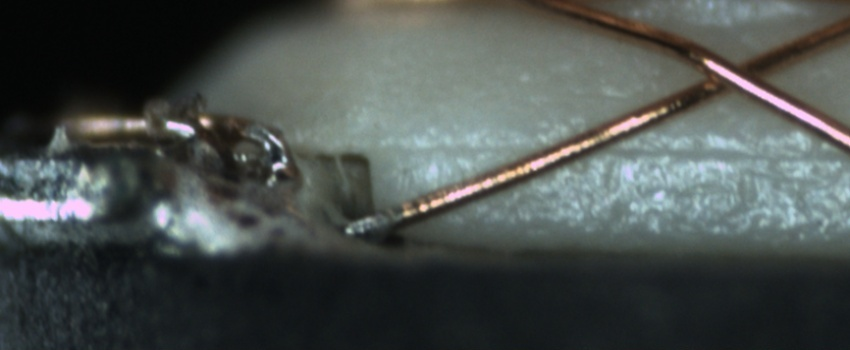CL: (682, 43, 784, 104)
DL: (395, 124, 850, 178)
TE: (58, 100, 317, 191)
TS: (344, 203, 404, 238)
